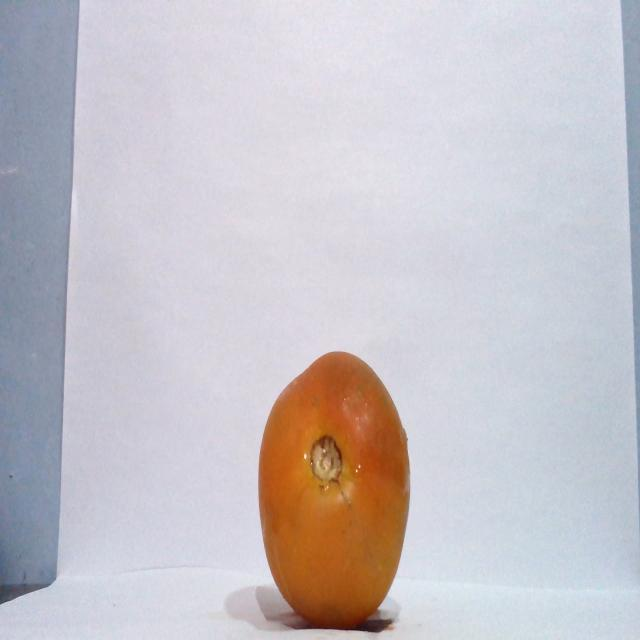Red: (256, 349, 411, 628)
